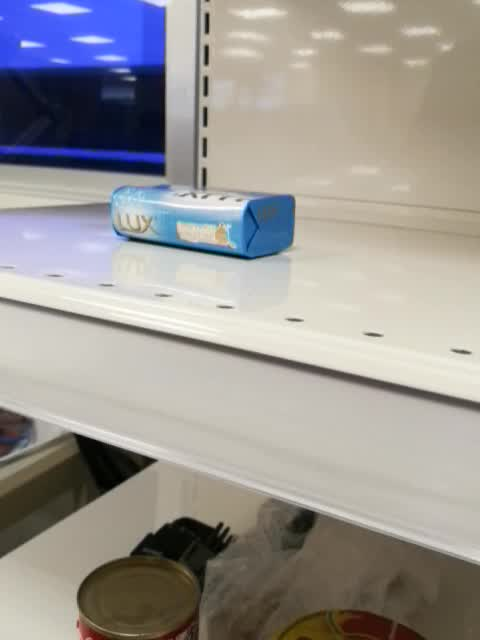soap: (108, 183, 296, 262)
